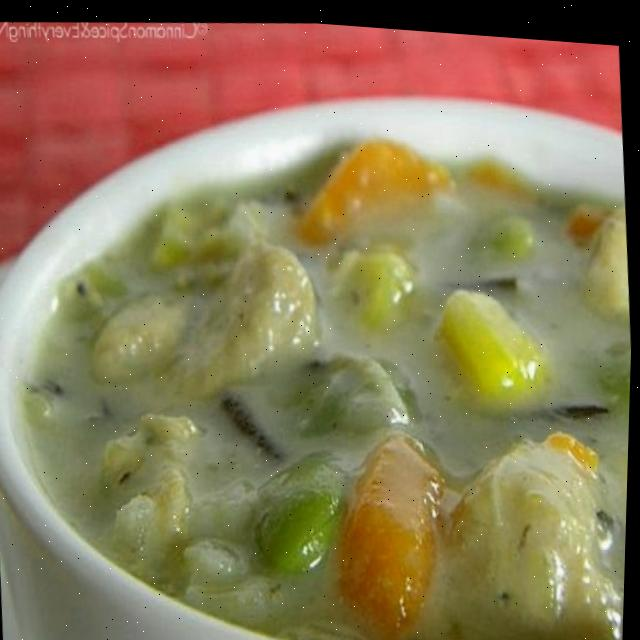汤锅炖物: (0, 50, 639, 640)
